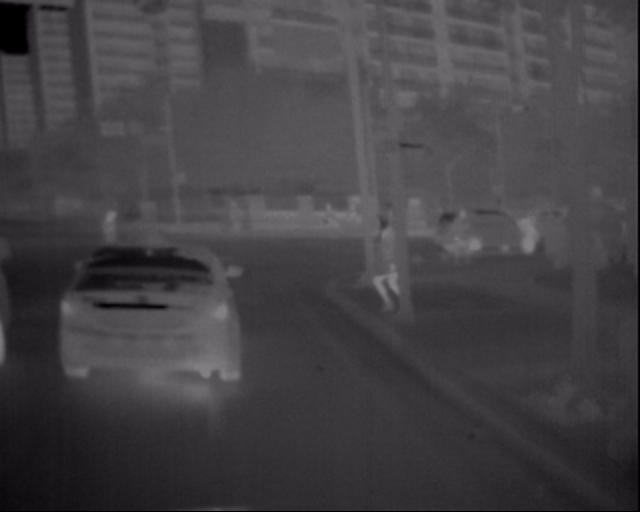person: (365, 195, 429, 324), (87, 207, 143, 289), (447, 203, 486, 266)
